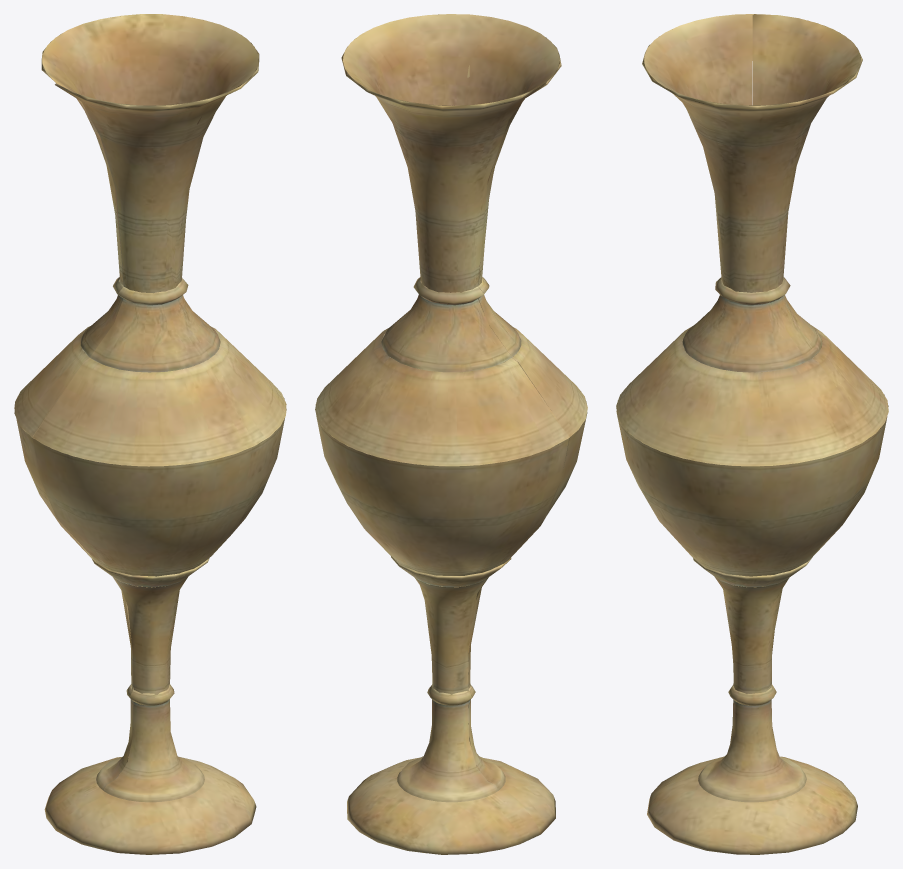
Rendered from brass_vase_01.glb.
The picture shows the model from 3 angles, left to right: view 1: azimuth 30°, elevation 25°; view 2: azimuth 150°, elevation 25°; view 3: azimuth 270°, elevation 25°; orthographic projection.
Visible parts, largest first — view 1: brass_vase_01; view 2: brass_vase_01; view 3: brass_vase_01.
Part boxes in pixels (x1,y1,x2,y2): brass_vase_01: (14, 14, 286, 854); brass_vase_01: (315, 14, 587, 854); brass_vase_01: (616, 14, 888, 854).
Bounding box in the file's own units: 0.2284 × 0.6929 × 0.228.
1 material, 1 textured.
